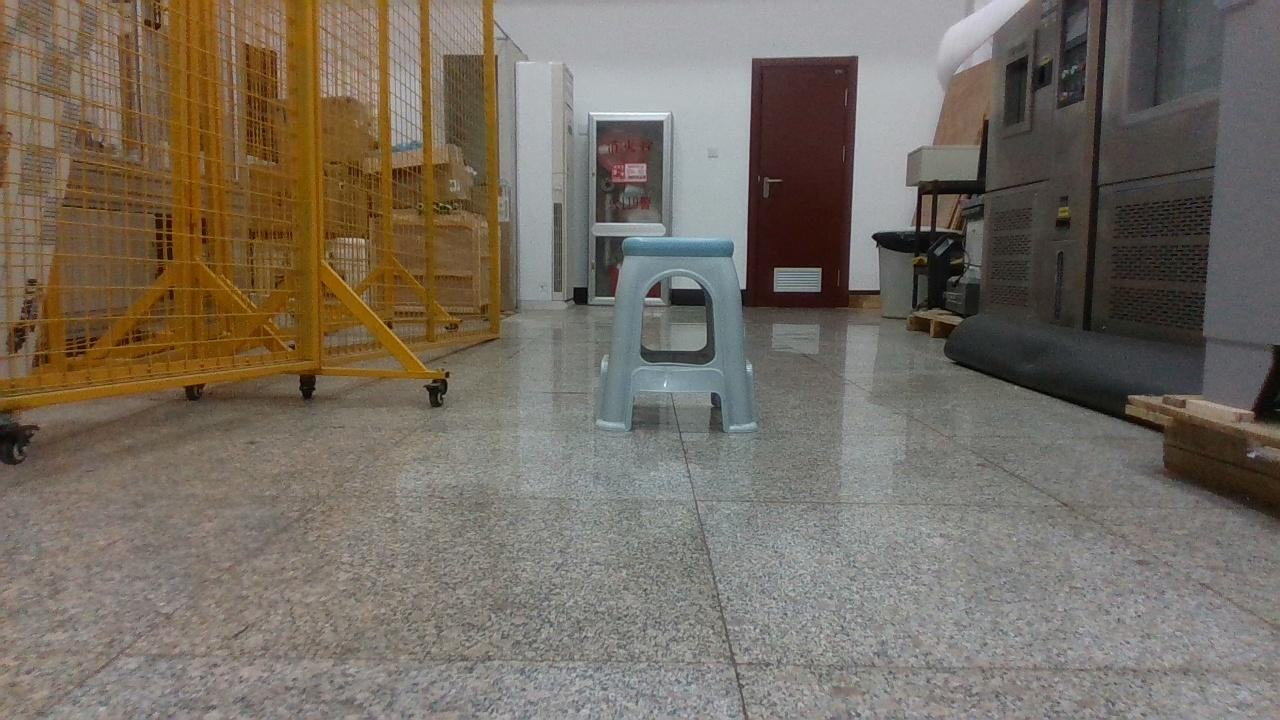stool: (595, 238, 755, 433)
